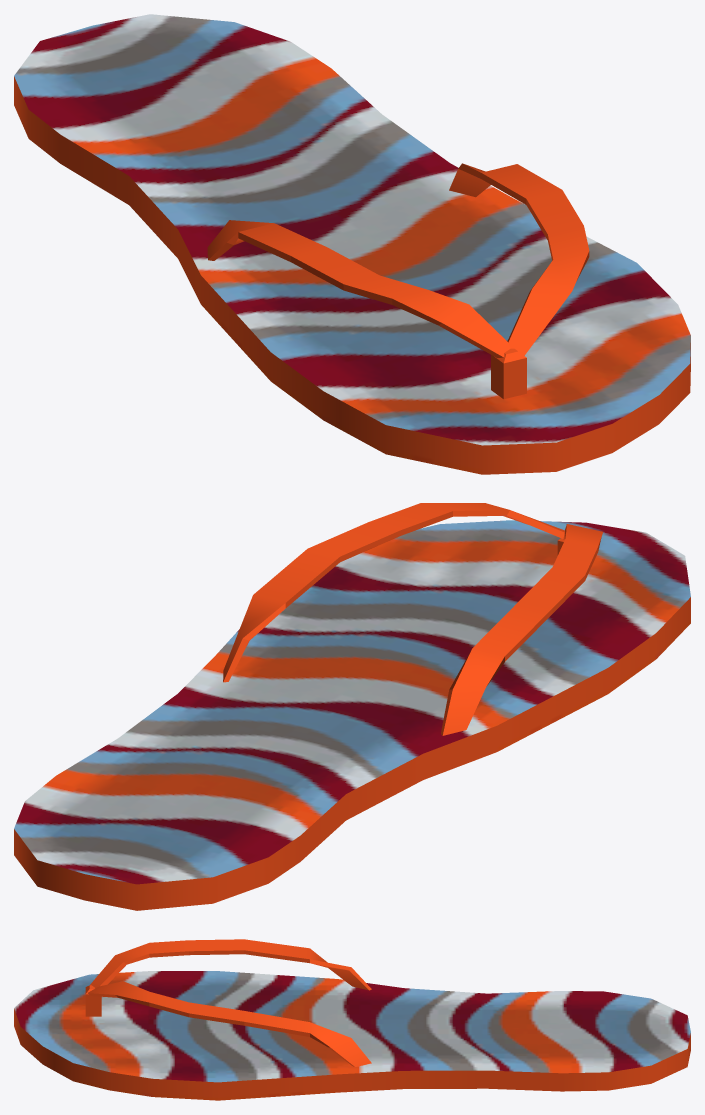
Rendered from p6_beach_sandals_02_left_lod0.glb.
3 views of the same model, one above another, from view 1: azimuth 30°, elevation 25°; view 2: azimuth 150°, elevation 25°; view 3: azimuth 270°, elevation 25° (orthographic). The views are drawn at different scales.
Visible parts, largest first — view 1: surf0; view 2: surf0; view 3: surf0.
Part boxes in pixels (left/top/right/bottom): surf0: left=14, top=14, right=690, bottom=474; surf0: left=14, top=503, right=690, bottom=910; surf0: left=14, top=939, right=690, bottom=1100.
Bounding box in the file's own units: 5.16 × 1.44 × 13.24.
